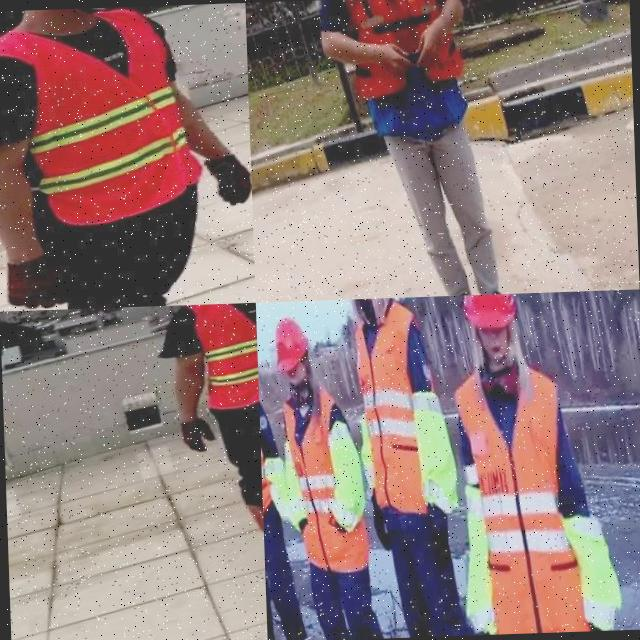boots: (245, 493, 265, 584)
helmet: (266, 310, 316, 374), (456, 293, 520, 328)
vest: (446, 344, 618, 635), (0, 4, 209, 238), (328, 296, 463, 528), (266, 386, 376, 580), (322, 0, 474, 140), (438, 474, 514, 636), (561, 502, 635, 632), (178, 302, 260, 417), (405, 380, 468, 518), (318, 420, 376, 530), (258, 367, 286, 530), (276, 432, 310, 524), (348, 412, 383, 492), (261, 451, 296, 522)
